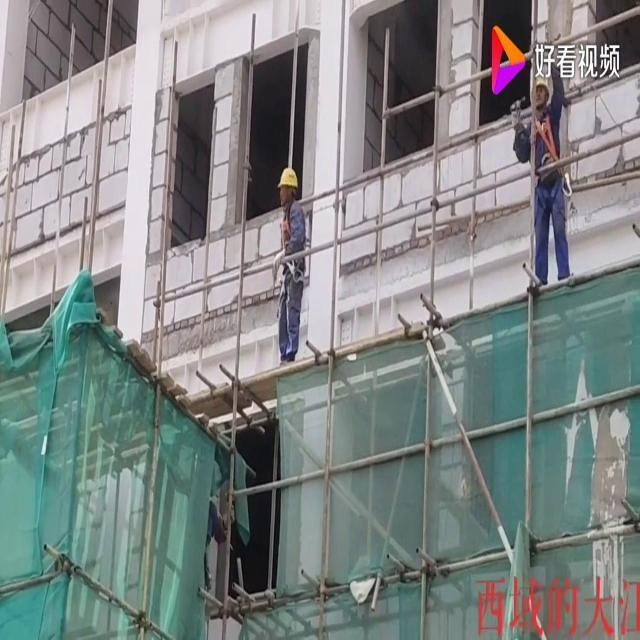Arnes_seguridad: (534, 107, 560, 165), (278, 202, 300, 258)
